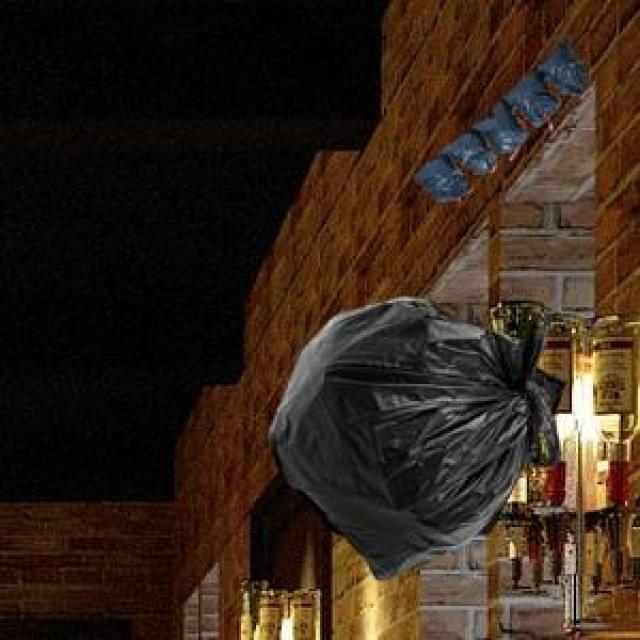miscellaneous trash: (265, 294, 557, 576), (410, 34, 582, 196), (472, 363, 561, 531)
